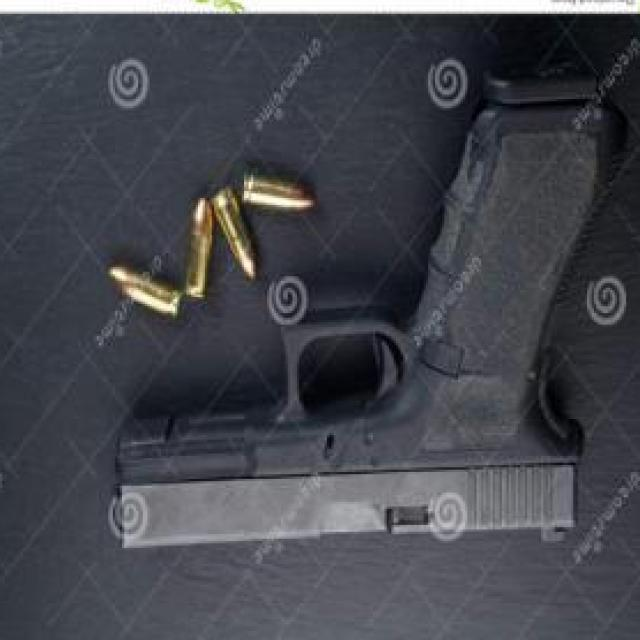pistol: (119, 72, 626, 552)
